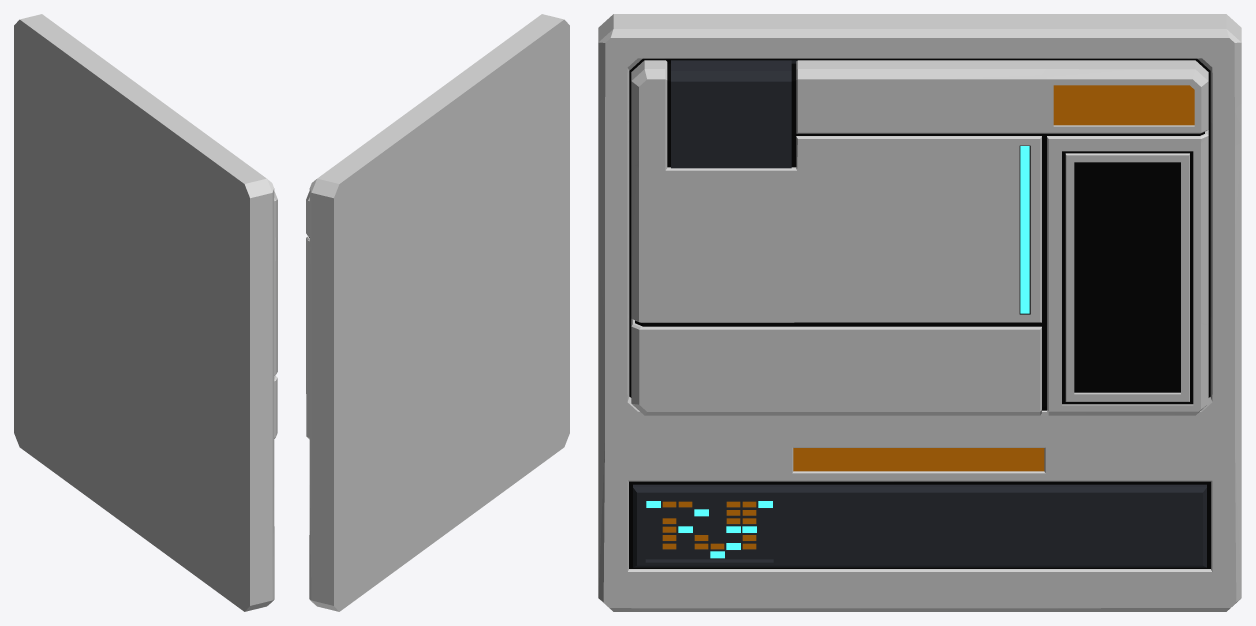
The model's file is SM_WallDecor_TechPanel_Wide.glb.
3 renders of one model, left to right at view 1: azimuth 30°, elevation 25°; view 2: azimuth 150°, elevation 25°; view 3: azimuth 270°, elevation 25°, orthographic. The views are drawn at different scales.
Parts seen in each view (by area): view 1: SM_WallDecor_TechPanel_Wide.001; view 2: SM_WallDecor_TechPanel_Wide.001; view 3: SM_WallDecor_TechPanel_Wide.001.
Boxes of the visible parts, x1=… form: SM_WallDecor_TechPanel_Wide.001: x1=14, y1=14, x2=277, y2=611; SM_WallDecor_TechPanel_Wide.001: x1=306, y1=14, x2=569, y2=611; SM_WallDecor_TechPanel_Wide.001: x1=598, y1=14, x2=1241, y2=611.
Size of the model in its own units: 0.4504 by 4 by 4.
